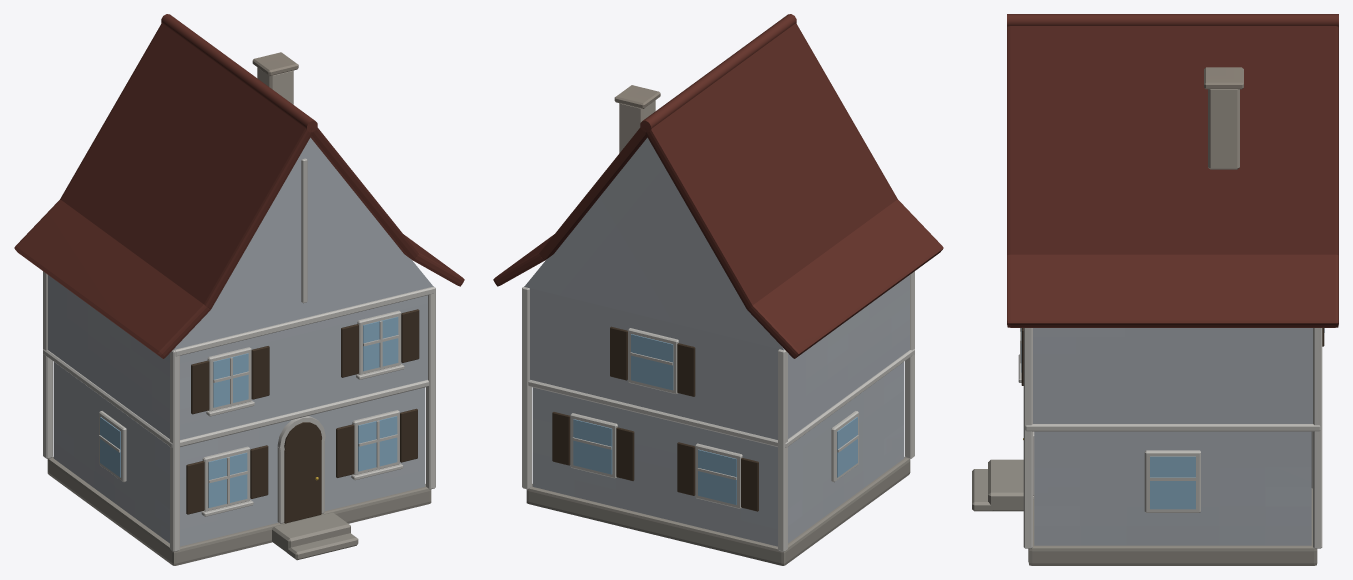
Rendered from cottage-7.glb.
3 views of the same model, side by side, from view 1: azimuth 30°, elevation 25°; view 2: azimuth 150°, elevation 25°; view 3: azimuth 270°, elevation 25° (orthographic). The views are drawn at different scales.
Parts seen in each view (by area): view 1: cottage-7; view 2: cottage-7; view 3: cottage-7.
Boxes of the visible parts, x1,y1,x2,y2 form: cottage-7: [14, 14, 464, 565]; cottage-7: [493, 14, 943, 565]; cottage-7: [972, 14, 1338, 565].
Size of the model in its own units: 8.73 by 11.49 by 7.95.
